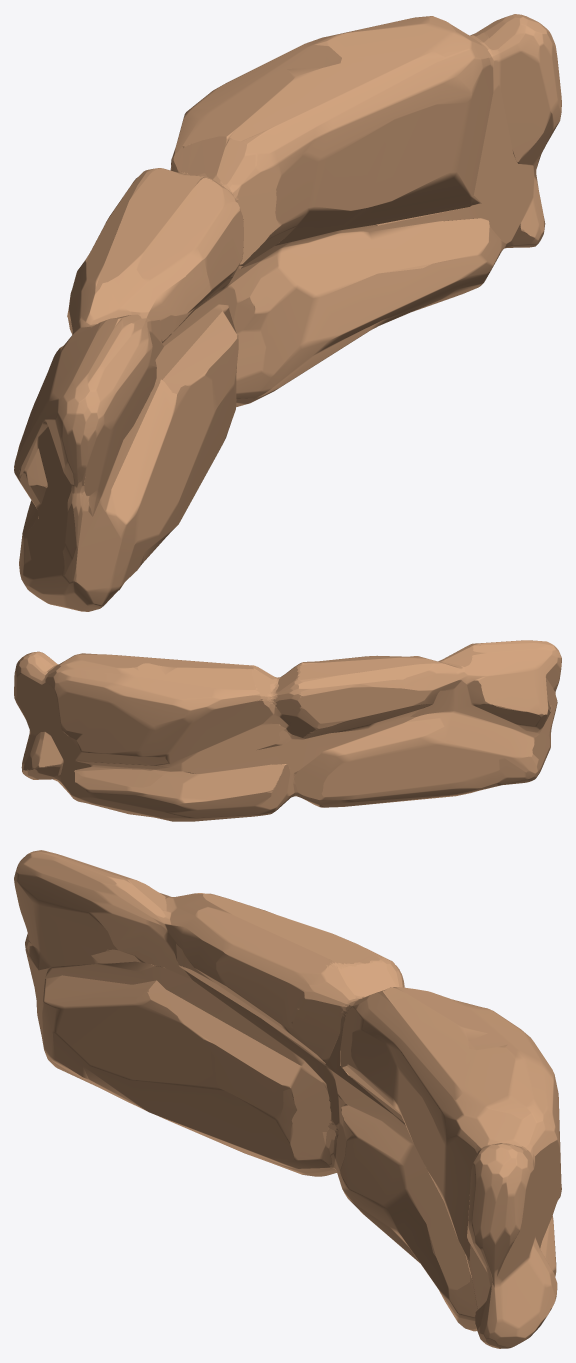
The picture shows the model from 3 angles, top to bottom: view 1: azimuth 30°, elevation 25°; view 2: azimuth 150°, elevation 25°; view 3: azimuth 270°, elevation 25°; orthographic projection. The views are drawn at different scales.
Visible parts, largest first — view 1: Mesh_38_LOD0; view 2: Mesh_38_LOD0; view 3: Mesh_38_LOD0.
Part boxes in pixels (<box>): Mesh_38_LOD0: <box>14,14,561,611</box>; Mesh_38_LOD0: <box>14,640,561,821</box>; Mesh_38_LOD0: <box>14,850,561,1348</box>.
Size of what is drawn, in the model's own units: 2010 by 693 by 1422.
